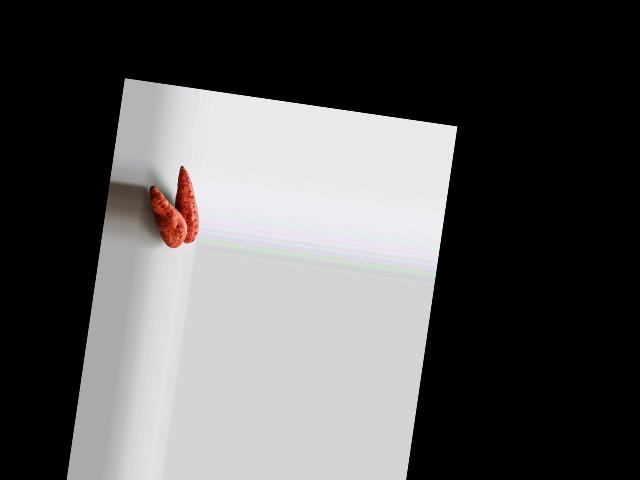sweet_potato: (169, 170, 205, 244)
